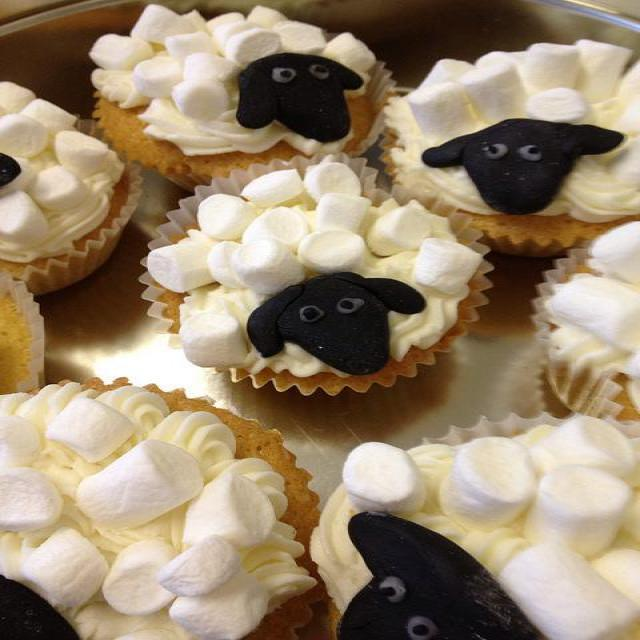Sheep: (305, 411, 639, 639), (89, 5, 375, 160), (418, 118, 622, 219), (245, 274, 428, 379)
